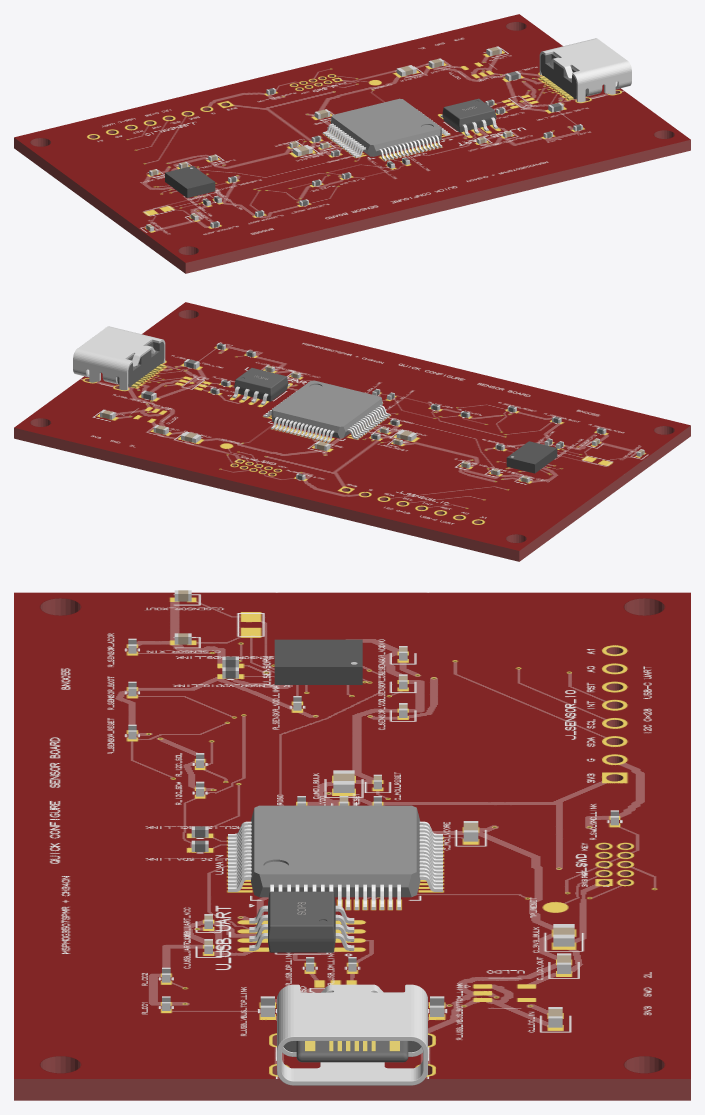
The picture shows the model from 3 angles, top to bottom: view 1: azimuth 30°, elevation 25°; view 2: azimuth 150°, elevation 25°; view 3: azimuth 270°, elevation 25°; orthographic projection. The views are drawn at different scales.
Parts seen in each view (by area): view 1: Box0, U_MAIN, J_USB, U_USB_UART, U_SENSOR; view 2: Box0, U_MAIN, J_USB, U_USB_UART, U_SENSOR; view 3: Box0, U_MAIN, J_USB, U_USB_UART, U_SENSOR.
Part boxes in pixels (left/top/right/bottom): Box0: left=14, top=14, right=690, bottom=273; U_MAIN: left=322, top=98, right=450, bottom=161; J_USB: left=539, top=38, right=631, bottom=102; U_USB_UART: left=440, top=98, right=498, bottom=135; U_SENSOR: left=165, top=166, right=215, bottom=197; Box0: left=14, top=302, right=690, bottom=561; U_MAIN: left=263, top=380, right=390, bottom=442; J_USB: left=73, top=326, right=165, bottom=390; U_USB_UART: left=232, top=368, right=290, bottom=404; U_SENSOR: left=506, top=441, right=557, bottom=473; Box0: left=14, top=592, right=690, bottom=1100; U_MAIN: left=228, top=805, right=442, bottom=909; J_USB: left=277, top=984, right=427, bottom=1085; U_USB_UART: left=249, top=891, right=354, bottom=952; U_SENSOR: left=274, top=639, right=362, bottom=684.
Size of the model in its own units: 69.04 by 4.65 by 40.
19 materials, 2 textured.
